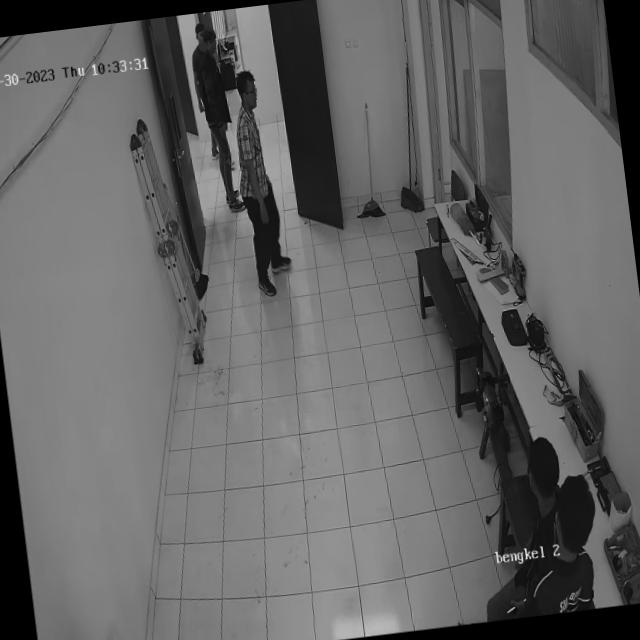person: (226, 61, 304, 306), (186, 17, 251, 219)
